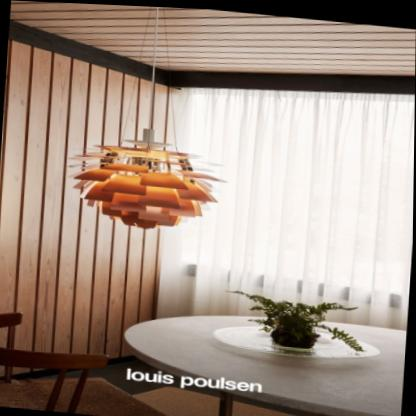Curtains: (157, 86, 415, 328)
Wall Panel: (0, 41, 182, 350)
